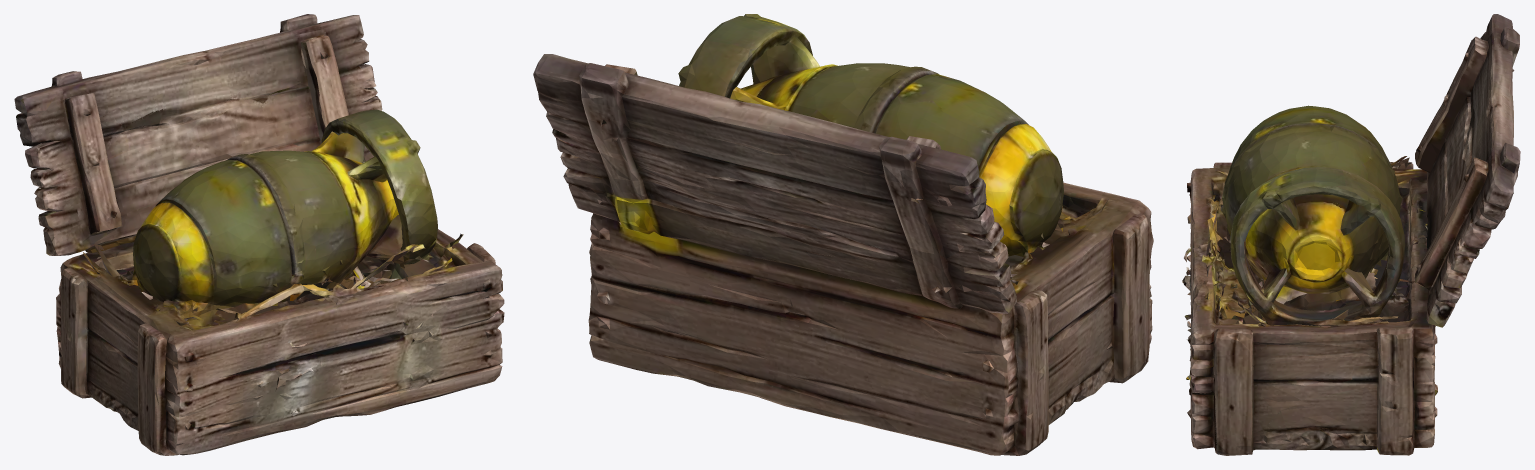
File: nuke.glb
The picture shows the model from 3 angles, left to right: view 1: azimuth 30°, elevation 25°; view 2: azimuth 150°, elevation 25°; view 3: azimuth 270°, elevation 25°; orthographic projection. The views are drawn at different scales.
Visible parts, largest first — view 1: tmp7m3z8xa0.ply; view 2: tmp7m3z8xa0.ply; view 3: tmp7m3z8xa0.ply.
Part boxes in pixels (box(x1,y1,x2,y2)): tmp7m3z8xa0.ply: box(14, 14, 504, 455); tmp7m3z8xa0.ply: box(533, 14, 1153, 455); tmp7m3z8xa0.ply: box(1182, 14, 1520, 455).
Bounding box in the file's own units: 1 × 0.7563 × 0.8192.
1 material, 1 textured.
